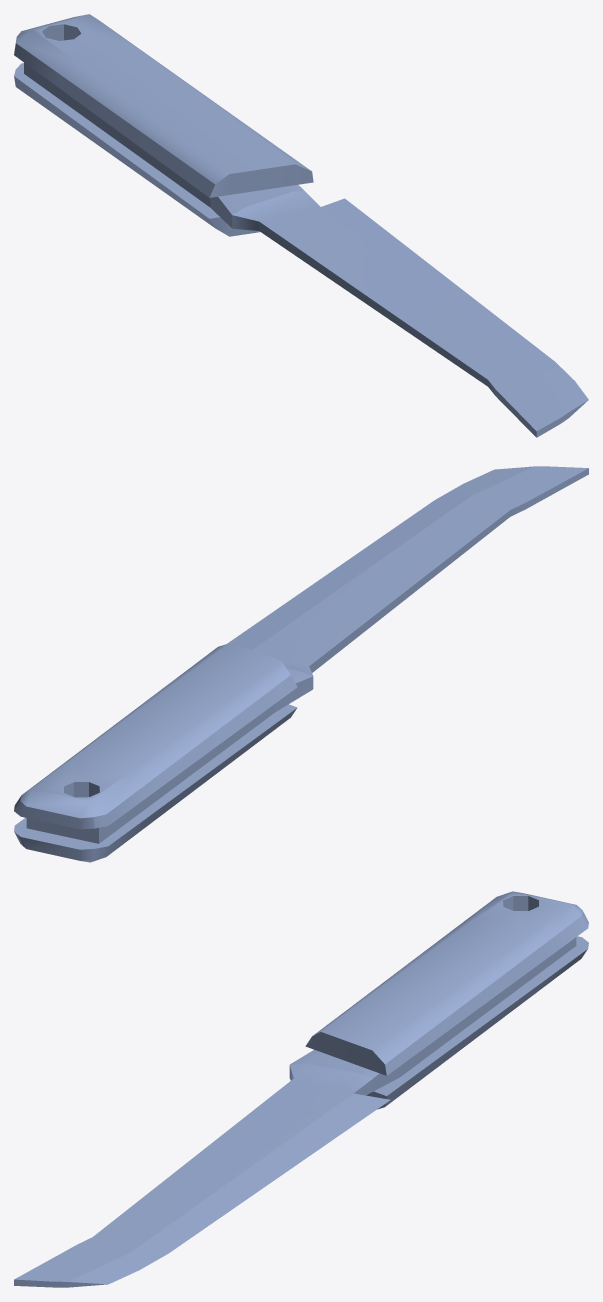
File: Knife03.fbx
The picture shows the model from 3 angles, top to bottom: view 1: azimuth 30°, elevation 25°; view 2: azimuth 150°, elevation 25°; view 3: azimuth 330°, elevation 25°; orthographic projection. The views are drawn at different scales.
Parts seen in each view (by area): view 1: Utensils01_Uv_v001:Knife03; view 2: Utensils01_Uv_v001:Knife03; view 3: Utensils01_Uv_v001:Knife03.
Boxes of the visible parts, left/top/right/bottom form: Utensils01_Uv_v001:Knife03: left=14, top=14, right=588, bottom=437; Utensils01_Uv_v001:Knife03: left=14, top=466, right=588, bottom=862; Utensils01_Uv_v001:Knife03: left=14, top=891, right=588, bottom=1287.
Size of the model in its own units: 5.32 by 2.84 by 42.9.
Materials: 1 (1 with a texture image).
